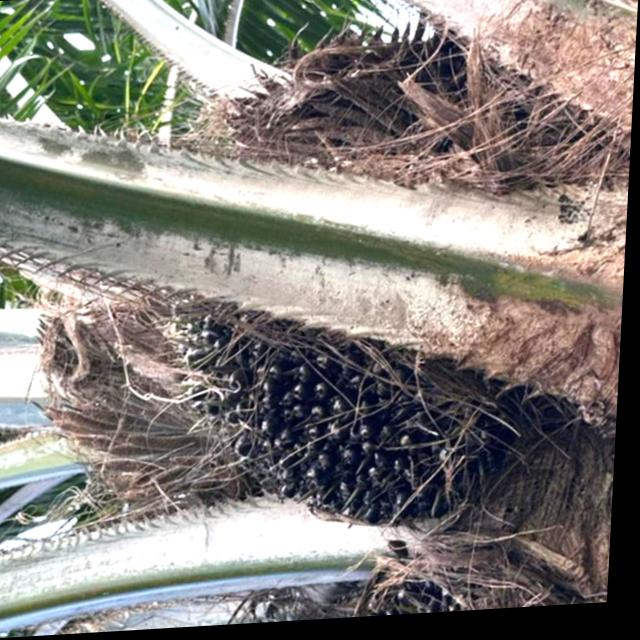unripe: (150, 258, 564, 548)
